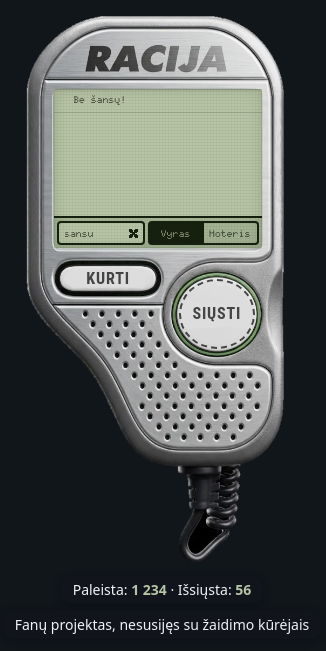
Scenario: Radio › mode switch (KURTI <-> GARSAI) › toggles the label and the LCD content, and keeps the query
Step 1. Click the button with class "skey" showing "KURTI" → (108, 279), box [55,261,161,296]
Wait 50 ms
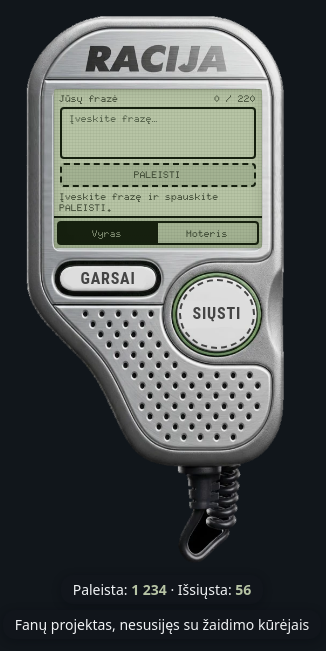
expect the button with class "skey" reads "GARSAI": met
expect the list is gone: met
expect the search field is gone: met
Step 2. Click the button with class "skey" showing "GARSAI" → (108, 279), box [55,261,161,296]
Wait 50 ms
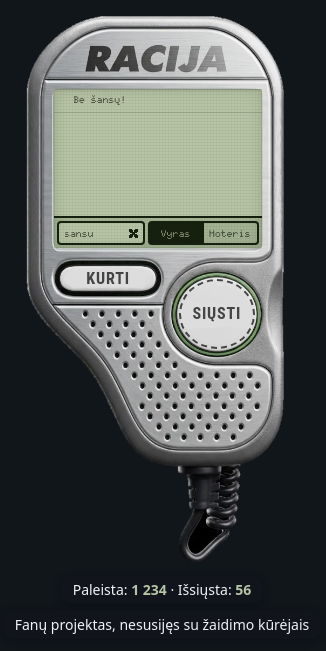
expect the button with class "skey" reads "KURTI": met, box [55,261,161,296]
